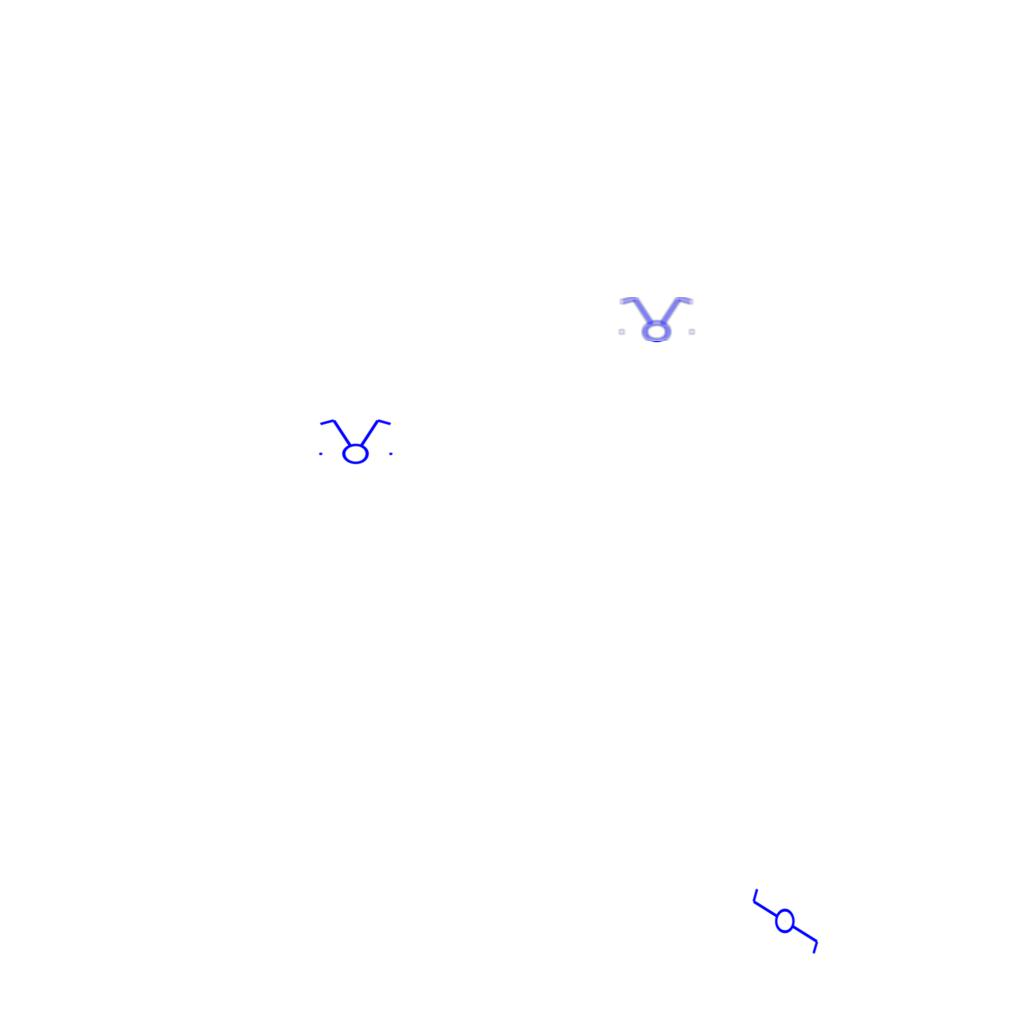Serienschalter: (614, 295, 698, 343), (313, 417, 397, 465)
Wechselschalter: (750, 878, 822, 956)
